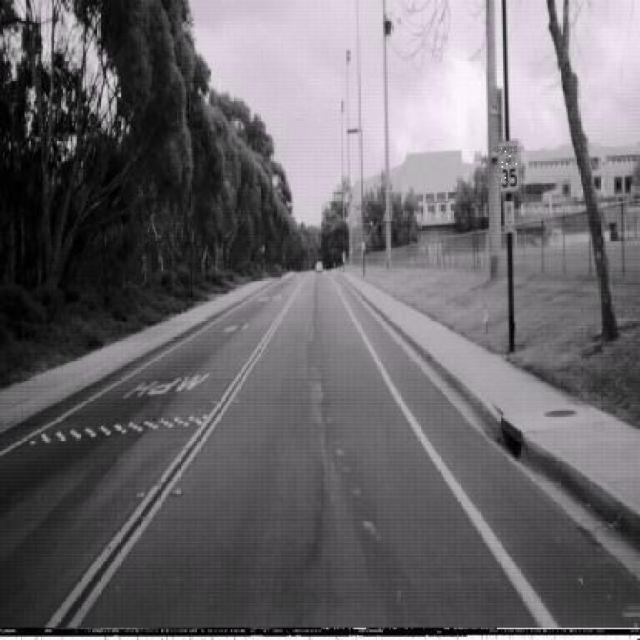speedLimit35: (497, 137, 520, 192)
